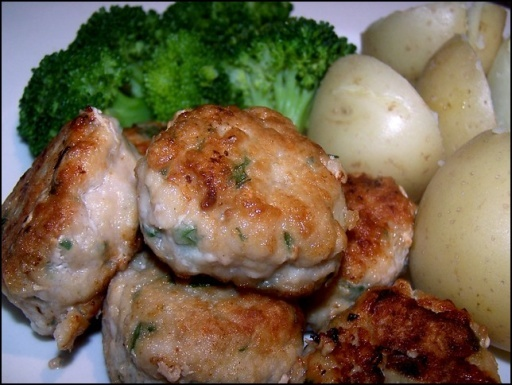background: (1, 1, 408, 230)
